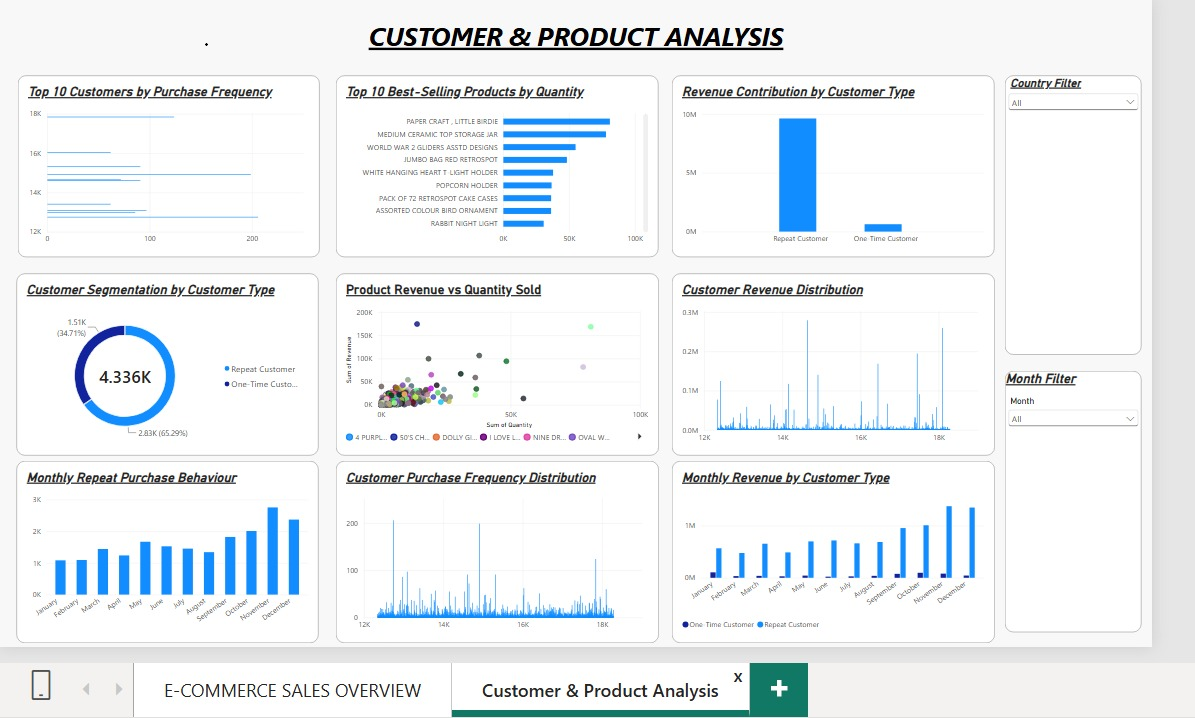

Layout of this report page (visuals, bound fields, positions):
{"tool":"powerbi","page":{"name":"Customer & Product Analysis","canvas":[1920,1080],"ordinal":1},"visuals":[{"type":"textbox","box":[0,32.5,1920,95],"z":0},{"type":"clusteredBarChart","title":"Top 10 Customers by Purchase Frequency","fields":{"Category":["ecommerce_sales_cleaned_20.CustomerID"],"Y":["Count(ecommerce_sales_cleaned_20.InvoiceNo)"]},"box":[30,127.5,502.5,302.5],"z":1},{"type":"donutChart","title":"Customer Segmentation by Customer Type","fields":{"Category":["ecommerce_sales_cleaned_20.Customer Type"],"Y":["Count(ecommerce_sales_cleaned_20.CustomerID)"]},"box":[27.5,457.5,503,303],"z":2},{"type":"clusteredColumnChart","title":"Monthly Repeat Purchase Behaviour","fields":{"Category":["ecommerce_sales_cleaned_20.Month.Variation.Date Hierarchy.Month"],"Y":["Count(ecommerce_sales_cleaned_20.InvoiceNo)"]},"box":[28,771,503,303],"z":3},{"type":"clusteredBarChart","title":"Top 10 Best-Selling Products by Quantity","fields":{"Category":["ecommerce_sales_cleaned_20.Description"],"Y":["Sum(ecommerce_sales_cleaned_20.Quantity)"]},"box":[560,127.5,537.5,302.5],"z":4},{"type":"scatterChart","title":"Product Revenue vs Quantity Sold","fields":{"Series":["ecommerce_sales_cleaned_20.Description"],"X":["Sum(ecommerce_sales_cleaned_20.Quantity)"],"Y":["Sum(ecommerce_sales_cleaned_20.Revenue)"]},"box":[560,458,538,303],"z":5},{"type":"clusteredColumnChart","title":"Customer Purchase Frequency Distribution","fields":{"Category":["ecommerce_sales_cleaned_20.CustomerID"],"Y":["Count(ecommerce_sales_cleaned_20.InvoiceNo)"]},"box":[560,771,538,303],"z":6},{"type":"clusteredColumnChart","title":"Revenue Contribution by Customer Type","fields":{"Category":["ecommerce_sales_cleaned_20.Customer Type"],"Y":["Sum(ecommerce_sales_cleaned_20.Revenue)"]},"box":[1120,127.5,537.5,302.5],"z":7},{"type":"clusteredColumnChart","title":"Customer Revenue Distribution","fields":{"Category":["ecommerce_sales_cleaned_20.CustomerID"],"Y":["Sum(ecommerce_sales_cleaned_20.Revenue)"]},"box":[1120,458,538,303],"z":8},{"type":"clusteredColumnChart","title":"Monthly Revenue by Customer Type","fields":{"Category":["ecommerce_sales_cleaned_20.Month.Variation.Date Hierarchy.Month"],"Series":["ecommerce_sales_cleaned_20.Customer Type"],"Y":["Sum(ecommerce_sales_cleaned_20.Revenue)"]},"box":[1120,771,538,303],"z":9},{"type":"slicer","fields":{"Values":["ecommerce_sales_cleaned_20.Country"]},"box":[1675,127.5,227.5,465],"z":10},{"type":"slicer","title":"Month Filter","fields":{"Values":["ecommerce_sales_cleaned_20.Month"]},"box":[1675,620,227.5,435],"z":11}]}

Visuals, with their boxes on the page's 1920x1080 design canvas (x1, y1, x2, y2). These are canvas units, not pixel positions in the 1195x718 screenshot, which may show the page scaled, cropped or inside an application window:
textbox: [0, 32, 1920, 128]
"Top 10 Customers by Purchase Frequency" clusteredBarChart: [30, 128, 532, 430]
"Customer Segmentation by Customer Type" donutChart: [28, 458, 530, 760]
"Monthly Repeat Purchase Behaviour" clusteredColumnChart: [28, 771, 531, 1074]
"Top 10 Best-Selling Products by Quantity" clusteredBarChart: [560, 128, 1098, 430]
"Product Revenue vs Quantity Sold" scatterChart: [560, 458, 1098, 761]
"Customer Purchase Frequency Distribution" clusteredColumnChart: [560, 771, 1098, 1074]
"Revenue Contribution by Customer Type" clusteredColumnChart: [1120, 128, 1658, 430]
"Customer Revenue Distribution" clusteredColumnChart: [1120, 458, 1658, 761]
"Monthly Revenue by Customer Type" clusteredColumnChart: [1120, 771, 1658, 1074]
slicer - ecommerce_sales_cleaned_20.Country: [1675, 128, 1902, 592]
"Month Filter" slicer: [1675, 620, 1902, 1055]
